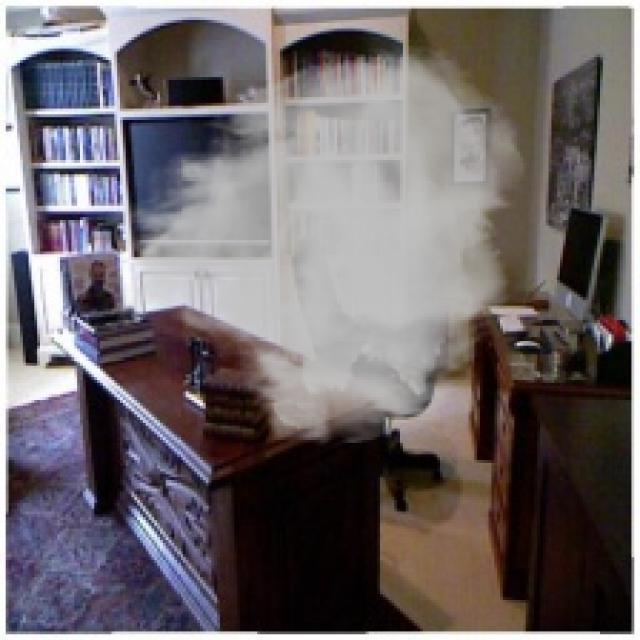Smoke: (109, 42, 528, 448)
